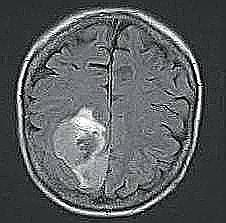Tumor: (53, 104, 108, 191)
